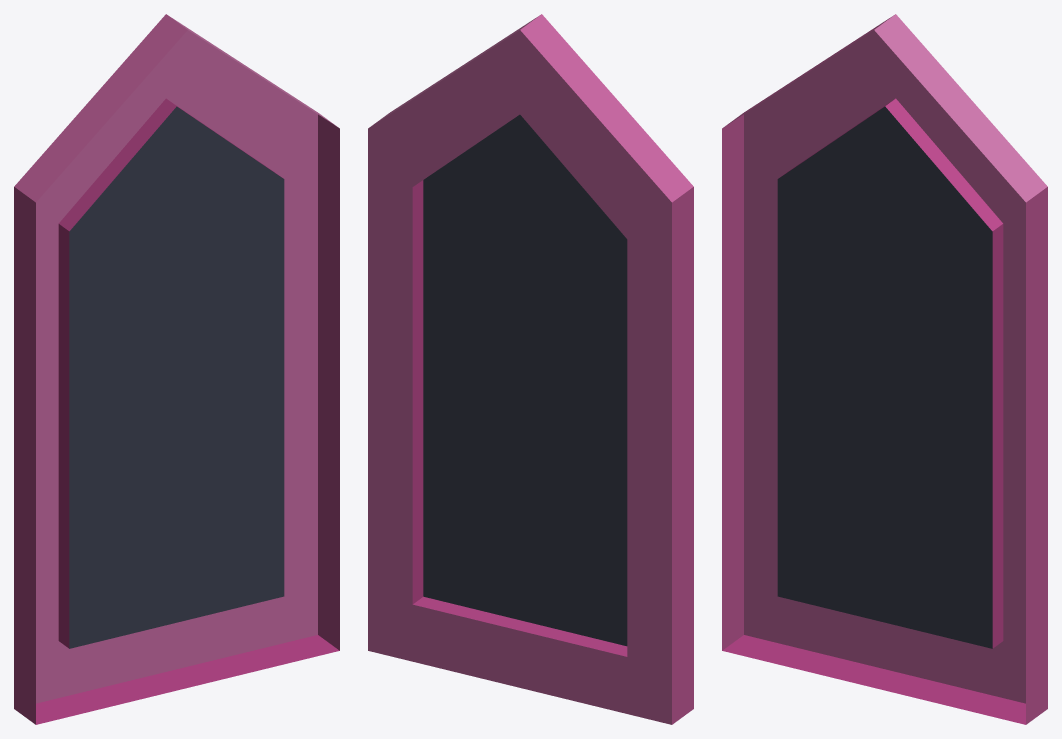
Rendered from squidgame_props_platform_decoration2_pink.fbx.
The picture shows the model from 3 angles, left to right: view 1: azimuth 30°, elevation 25°; view 2: azimuth 150°, elevation 25°; view 3: azimuth 330°, elevation 25°; orthographic projection.
Parts seen in each view (by area): view 1: squidgame_props_platform_decoration2_pink; view 2: squidgame_props_platform_decoration2_pink; view 3: squidgame_props_platform_decoration2_pink.
Part boxes in pixels (x1,y1,x2,y2): squidgame_props_platform_decoration2_pink: (14,14,339,724); squidgame_props_platform_decoration2_pink: (368,14,693,724); squidgame_props_platform_decoration2_pink: (722,14,1047,724).
Bounding box in the file's own units: 0.8875 × 1.84 × 0.1104.
